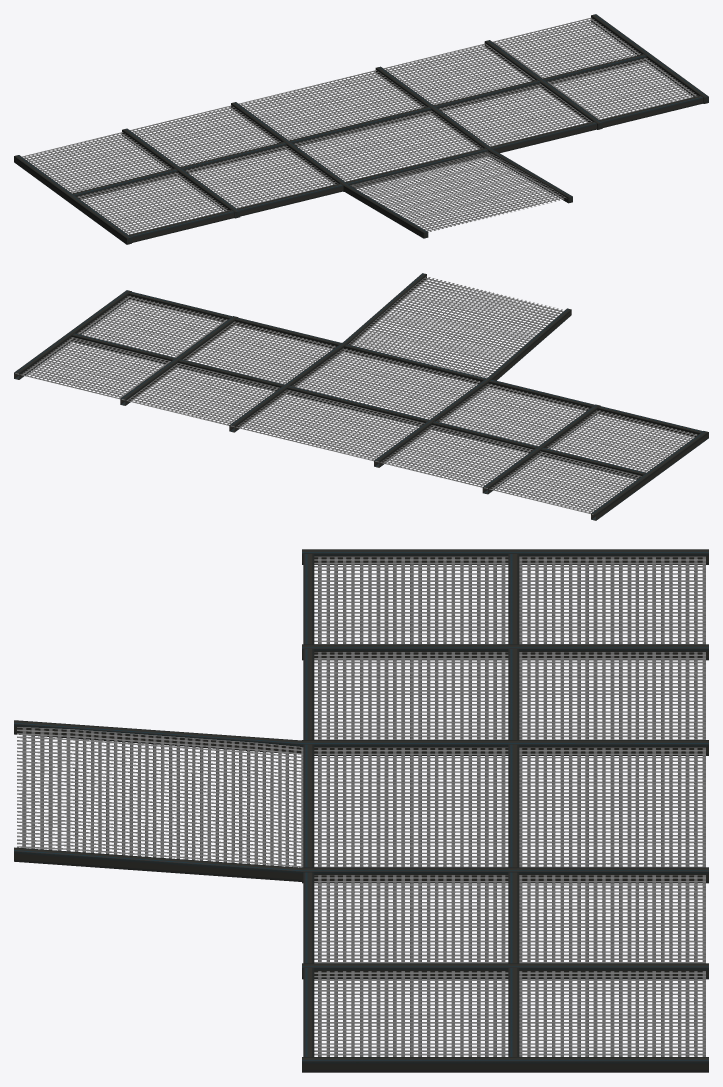
Rendered from mdlLoadingBayUpperFloorFinal.fbx.
3 views of the same model, one above another, from view 1: azimuth 30°, elevation 25°; view 2: azimuth 150°, elevation 25°; view 3: azimuth 270°, elevation 25° (orthographic). The views are drawn at different scales.
Parts seen in each view (by area): view 1: UpperFloor; view 2: UpperFloor; view 3: UpperFloor.
Boxes of the visible parts, left/top/right/bottom form: UpperFloor: left=14, top=14, right=708, bottom=244; UpperFloor: left=14, top=273, right=708, bottom=520; UpperFloor: left=14, top=549, right=708, bottom=1072.
Bounding box in the file's own units: 10707 × 305 × 6138.
